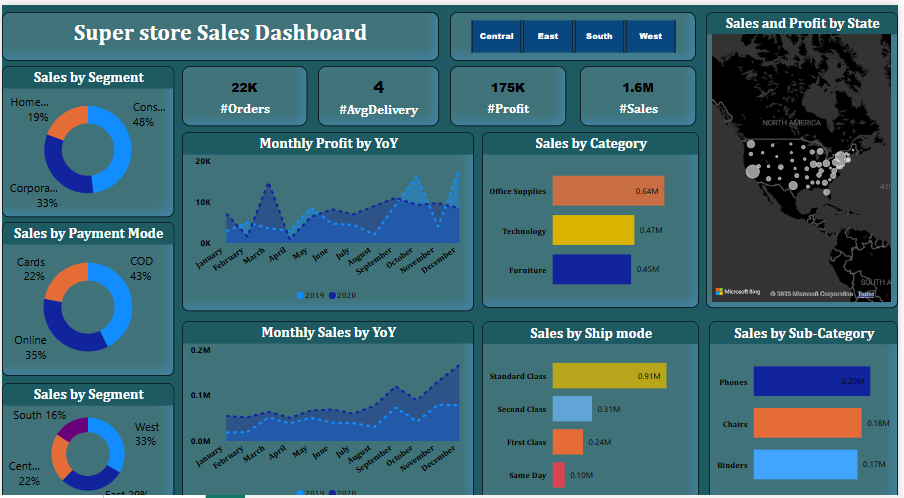

What the dashboard file says about the page in this screenshot:
{"tool":"powerbi","page":{"name":"Sales Dashboard","canvas":[1280,720],"ordinal":0},"visuals":[{"type":"barChart","title":"Sales by Category","fields":{"Category":["SuperStore_Sales_Dataset.Category"],"Y":["Sum(SuperStore_Sales_Dataset.Sales)"]},"box":[685.7,181.4,310,251.4],"z":0},{"type":"barChart","title":"Sales by Sub-Category","fields":{"Y":["Sum(SuperStore_Sales_Dataset.Sales)"],"Category":["SuperStore_Sales_Dataset.Sub-Category"]},"box":[1010,451.4,270,262.9],"z":1000},{"type":"barChart","title":"Sales by Ship mode","fields":{"Category":["SuperStore_Sales_Dataset.Ship Mode"],"Y":["Sum(SuperStore_Sales_Dataset.Sales)"]},"box":[685.7,451.4,310,268.6],"z":2000},{"type":"areaChart","title":"Monthly Sales by YoY","fields":{"Y":["Sum(SuperStore_Sales_Dataset.Sales)"],"Category":["SuperStore_Sales_Dataset.Order Date.Variation.Date Hierarchy.Month"],"Series":["SuperStore_Sales_Dataset.Order Date.Variation.Date Hierarchy.Year"]},"box":[257.1,451.4,417.1,268.6],"z":3000},{"type":"areaChart","title":"Monthly Profit by YoY","fields":{"Category":["SuperStore_Sales_Dataset.Order Date.Variation.Date Hierarchy.Month"],"Series":["SuperStore_Sales_Dataset.Order Date.Variation.Date Hierarchy.Year"],"Y":["Sum(SuperStore_Sales_Dataset.Profit)"]},"box":[257.1,181.4,417.1,255.7],"z":4000},{"type":"map","title":"Sales and Profit by State","fields":{"Category":["SuperStore_Sales_Dataset.State"],"Size":["Sum(SuperStore_Sales_Dataset.Sales)"]},"box":[1005.7,10,274.3,422.9],"z":5000},{"type":"donutChart","title":"Sales by Segment","fields":{"Category":["SuperStore_Sales_Dataset.Segment"],"Y":["Sum(SuperStore_Sales_Dataset.Sales)"]},"box":[0,87.1,245.7,215.7],"z":6000},{"type":"donutChart","title":"Sales by Payment Mode","fields":{"Y":["Sum(SuperStore_Sales_Dataset.Sales)"],"Category":["SuperStore_Sales_Dataset.Payment Mode"]},"box":[0,310,245.7,220],"z":7000},{"type":"slicer","fields":{"Values":["SuperStore_Sales_Dataset.Region"]},"box":[640,10,351.4,70],"z":8000},{"type":"textbox","box":[0,10,624.3,70],"z":9000},{"type":"card","fields":{"Values":["Sum(SuperStore_Sales_Dataset.Sales)"]},"box":[825.7,87.1,165.7,85.7],"z":10000},{"type":"card","fields":{"Values":["Sum(SuperStore_Sales_Dataset.Profit)"]},"box":[640,87.1,165.7,85.7],"z":11000},{"type":"card","fields":{"Values":["Sum(SuperStore_Sales_Dataset.Quantity)"]},"box":[257.1,87.1,178.6,85.7],"z":12000},{"type":"card","fields":{"Values":["Avg(SuperStore_Sales_Dataset.AvgDelivery)"]},"box":[451.4,87.1,172.9,85.7],"z":13000},{"type":"donutChart","title":"Sales by Segment","fields":{"Y":["Sum(SuperStore_Sales_Dataset.Sales)"],"Category":["SuperStore_Sales_Dataset.Region"]},"box":[0,540,245.7,180],"z":14000}]}

Visuals, with their boxes in screenshot pixels (x1, y1, x2, y2), scaled from the page's 1280x720 canvas onto the 904x498 screenshot:
"Sales by Category" barChart: (x1=484, y1=125, x2=703, y2=299)
"Sales by Sub-Category" barChart: (x1=713, y1=312, x2=903, y2=494)
"Sales by Ship mode" barChart: (x1=484, y1=312, x2=703, y2=497)
"Monthly Sales by YoY" areaChart: (x1=182, y1=312, x2=476, y2=497)
"Monthly Profit by YoY" areaChart: (x1=182, y1=125, x2=476, y2=302)
"Sales and Profit by State" map: (x1=710, y1=7, x2=903, y2=299)
"Sales by Segment" donutChart: (x1=0, y1=60, x2=174, y2=209)
"Sales by Payment Mode" donutChart: (x1=0, y1=214, x2=174, y2=367)
slicer - SuperStore_Sales_Dataset.Region: (x1=452, y1=7, x2=700, y2=55)
textbox: (x1=0, y1=7, x2=441, y2=55)
card - Sum(SuperStore_Sales_Dataset.Sales): (x1=583, y1=60, x2=700, y2=120)
card - Sum(SuperStore_Sales_Dataset.Profit): (x1=452, y1=60, x2=569, y2=120)
card - Sum(SuperStore_Sales_Dataset.Quantity): (x1=182, y1=60, x2=308, y2=120)
card - Avg(SuperStore_Sales_Dataset.AvgDelivery): (x1=319, y1=60, x2=441, y2=120)
"Sales by Segment" donutChart: (x1=0, y1=374, x2=174, y2=497)
